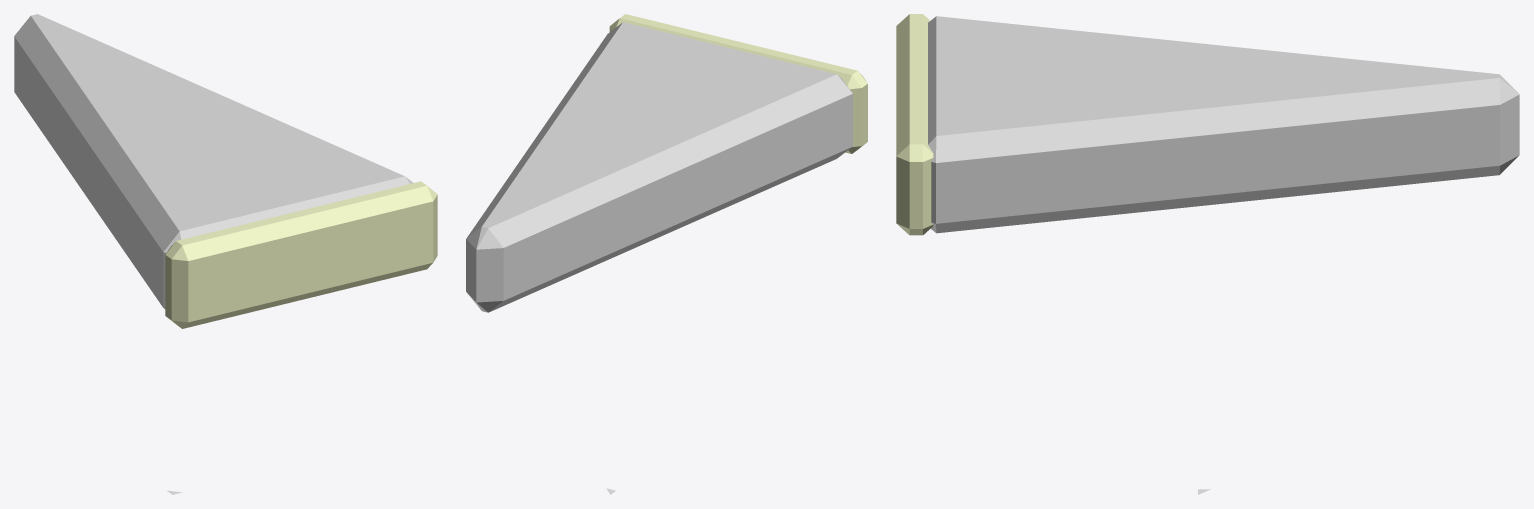
Rendered from fx_clip_c.glb.
3 renders of one model, left to right at view 1: azimuth 30°, elevation 25°; view 2: azimuth 150°, elevation 25°; view 3: azimuth 270°, elevation 25°, orthographic. The views are drawn at different scales.
Parts seen in each view (by area): view 1: SmoothPlastic__FFFFFF, SmoothPlastic__EEF4C4; view 2: SmoothPlastic__FFFFFF, SmoothPlastic__EEF4C4; view 3: SmoothPlastic__FFFFFF, SmoothPlastic__EEF4C4.
Part boxes in pixels (bbox=[...]): SmoothPlastic__FFFFFF: bbox=[14, 14, 413, 308]; SmoothPlastic__EEF4C4: bbox=[165, 181, 437, 328]; SmoothPlastic__FFFFFF: bbox=[466, 22, 852, 312]; SmoothPlastic__EEF4C4: bbox=[609, 14, 867, 153]; SmoothPlastic__FFFFFF: bbox=[928, 16, 1519, 233]; SmoothPlastic__EEF4C4: bbox=[896, 14, 933, 235].
Size of the model in its own units: 0.5 by 0.68 by 0.93.
